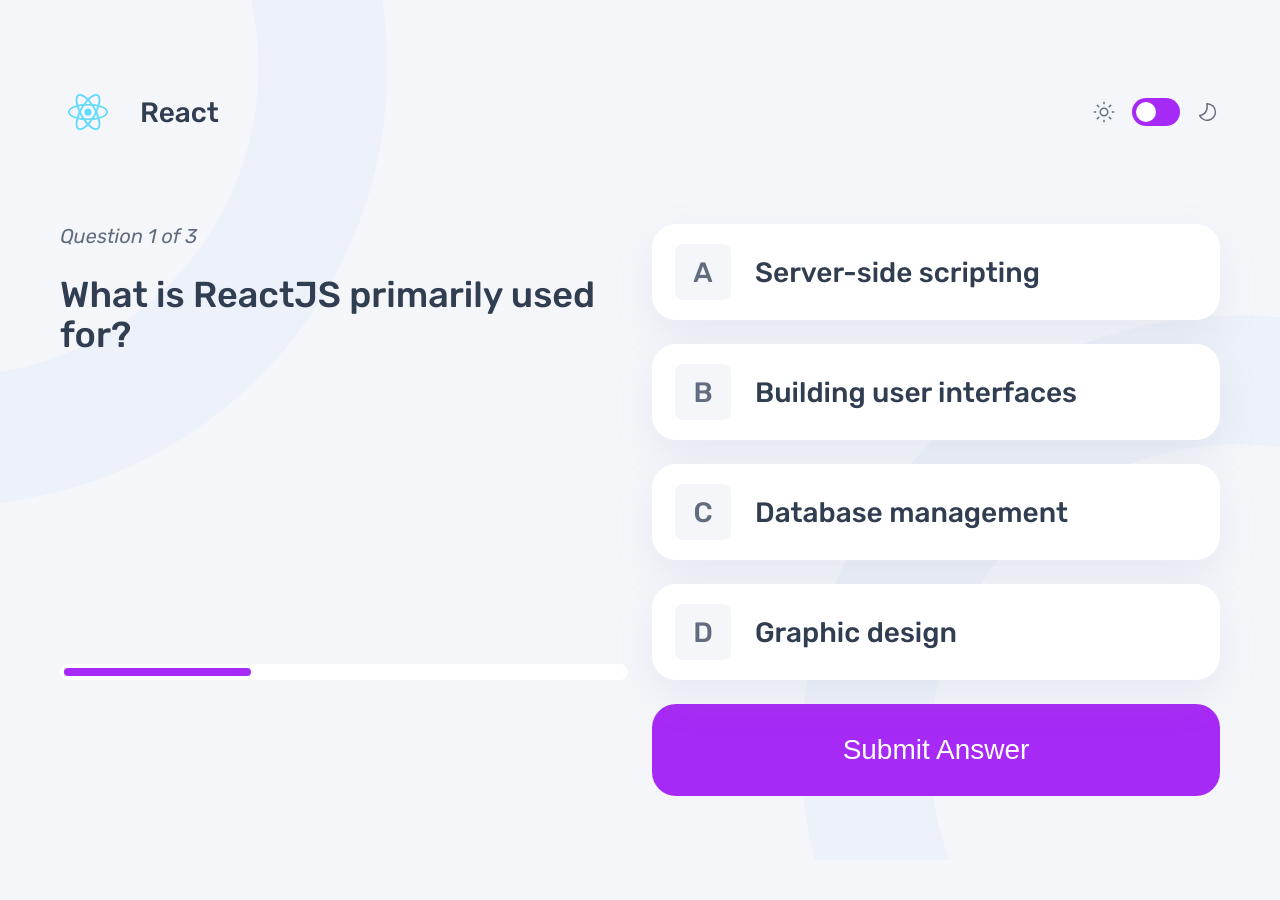
Test: App › Selecting wrong answer
Click the button with test id "option-0".
click(936, 272)  # box 652,224 -> 1220,320
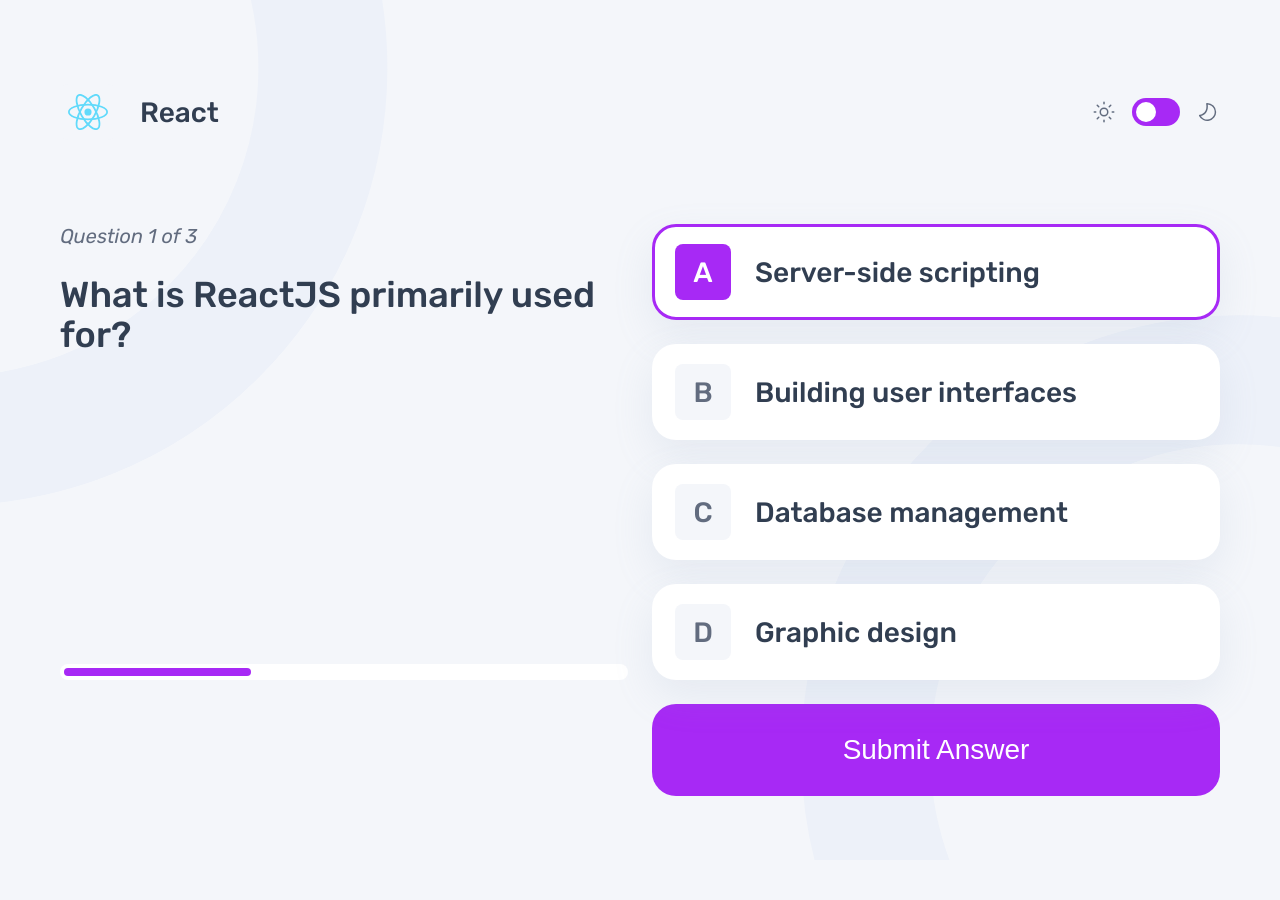
Click the button "Submit Answer".
click(936, 750)  # box 652,704 -> 1220,796
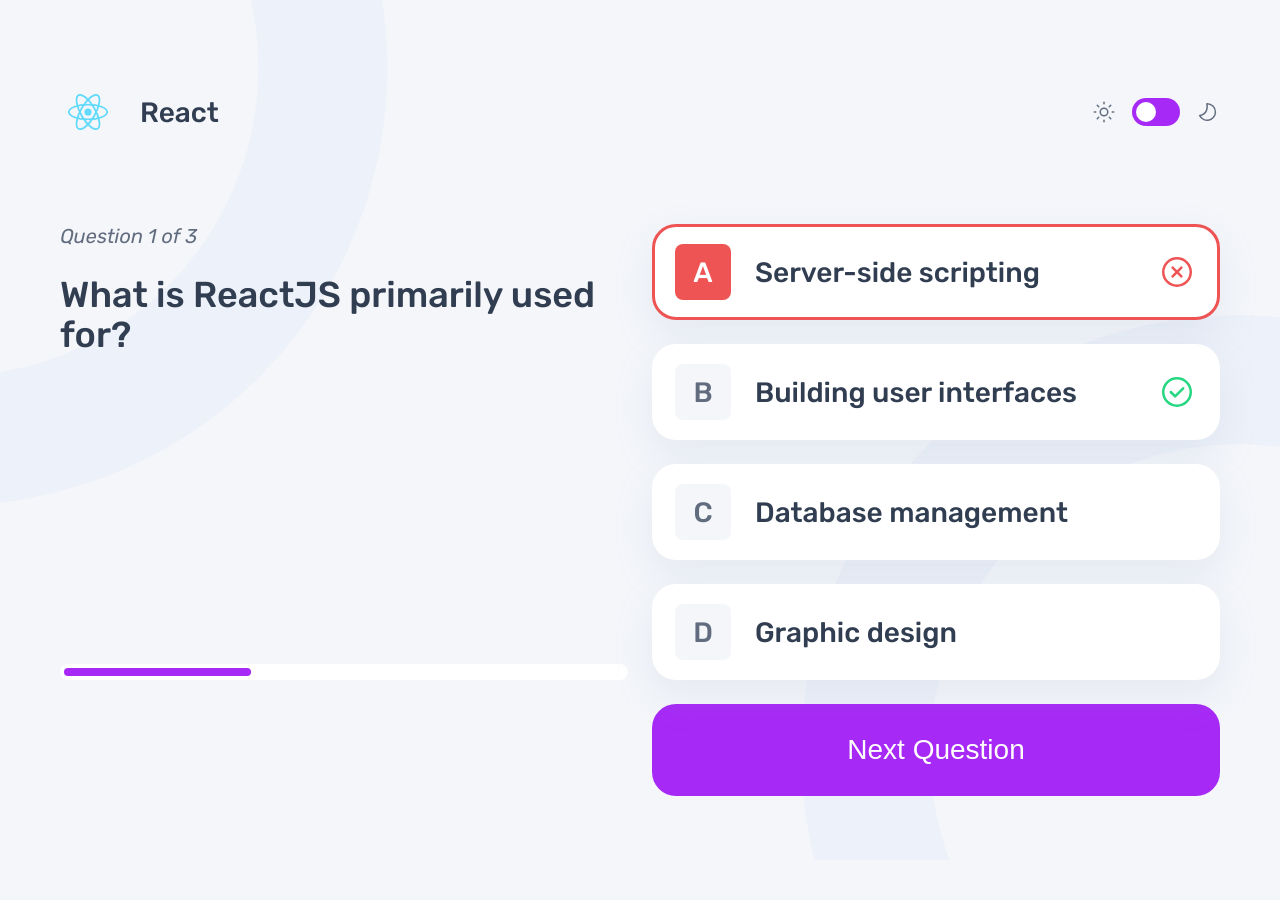
Result: the button "Next Question" is shown at 652,704 -> 1220,796
